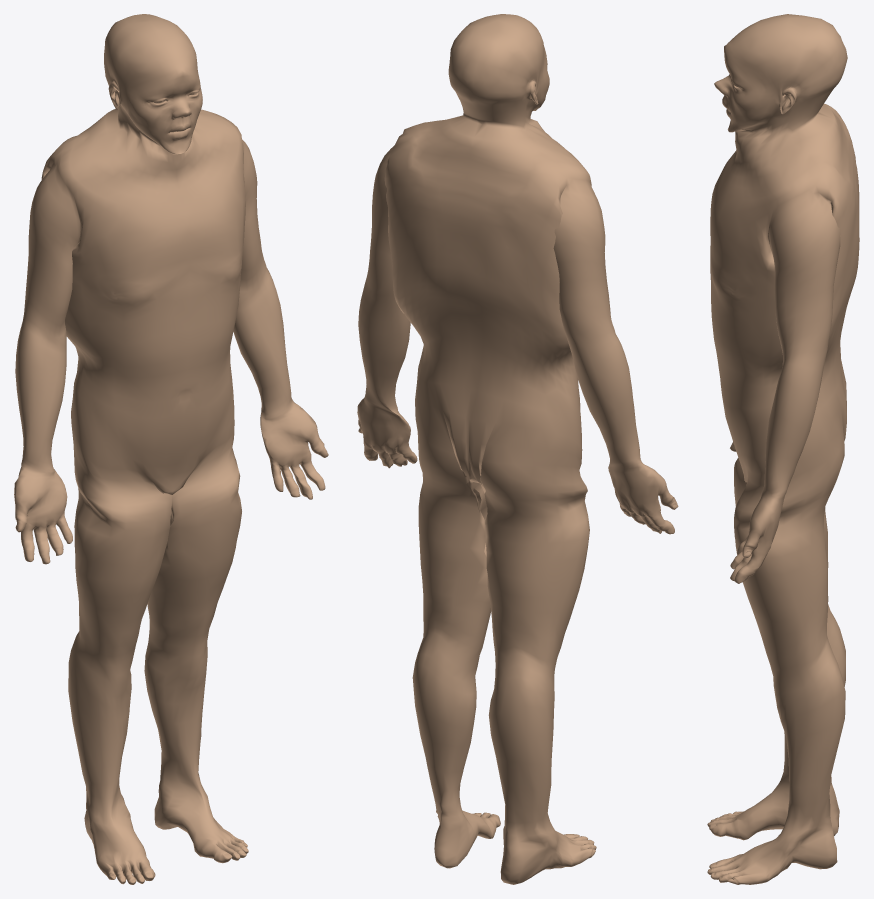
File: skin-candidate-f2c1.glb
3 views of the same model, side by side, from view 1: azimuth 30°, elevation 25°; view 2: azimuth 150°, elevation 25°; view 3: azimuth 270°, elevation 25° (orthographic). The views are drawn at different scales.
Parts seen in each view (by area): view 1: MakeHuman_AT10_skin_fit_candidate_f2c1; view 2: MakeHuman_AT10_skin_fit_candidate_f2c1; view 3: MakeHuman_AT10_skin_fit_candidate_f2c1.
Boxes of the visible parts, x1,y1,x2,y2 form: MakeHuman_AT10_skin_fit_candidate_f2c1: (14,14,328,884); MakeHuman_AT10_skin_fit_candidate_f2c1: (357,14,678,884); MakeHuman_AT10_skin_fit_candidate_f2c1: (707,14,859,884).
Size of the model in its own units: 0.6758 by 1.71 by 0.2826.
